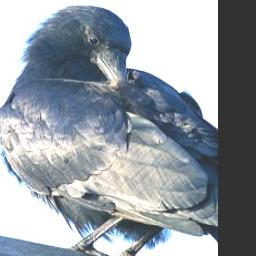Crow: (0, 4, 218, 256)
